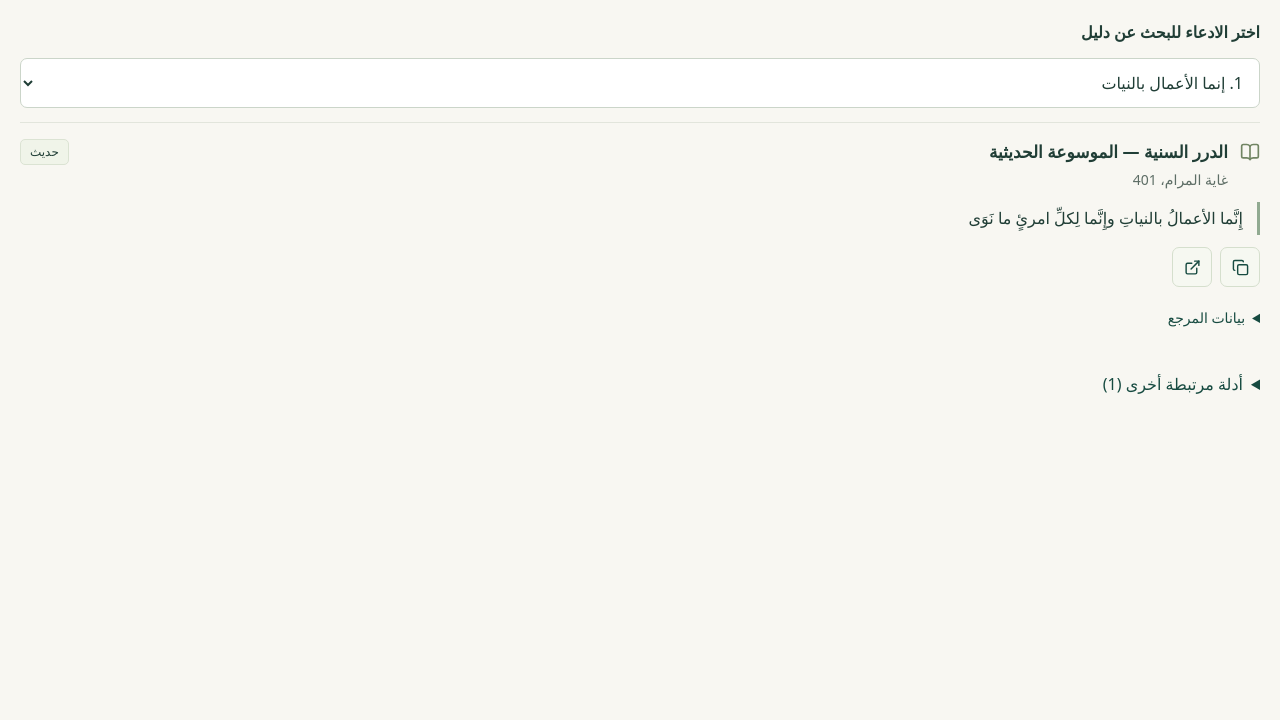
Test: shows only the strongest candidate expanded and locally opens secondary sources with no requests
This screenshot has width=1280, height=720.
Expected: the text "إِنَّما الأعمالُ بالنياتِ وإِنَّما لِكلِّ امرئٍ ما نَوَى" is shown, [20,202,1260,235]
Expected: the text "نص ثانٍ محفوظ للاختبار" is not shown
Step 1. Click the heading "أدلة مرتبطة أخرى (1)" → {"x": 1173, "y": 384}, box [1103,373,1243,395]
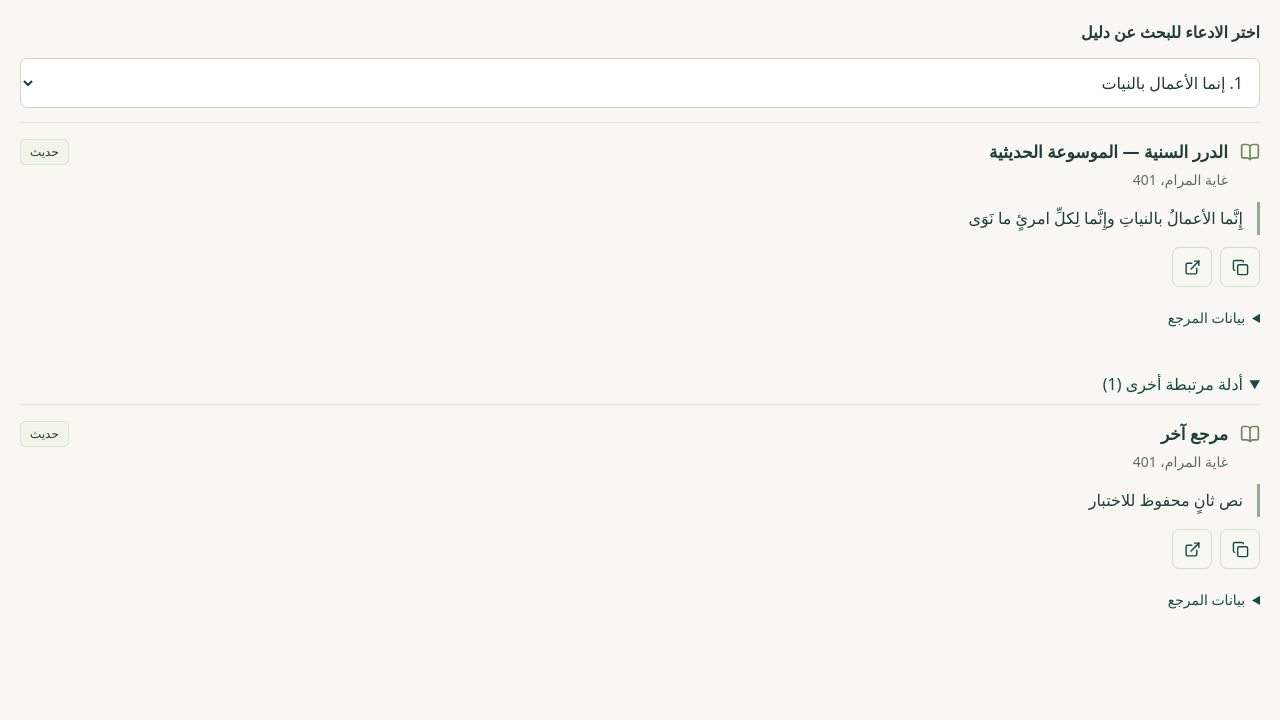
Expected: the text "نص ثانٍ محفوظ للاختبار" is shown, [20,484,1260,517]
